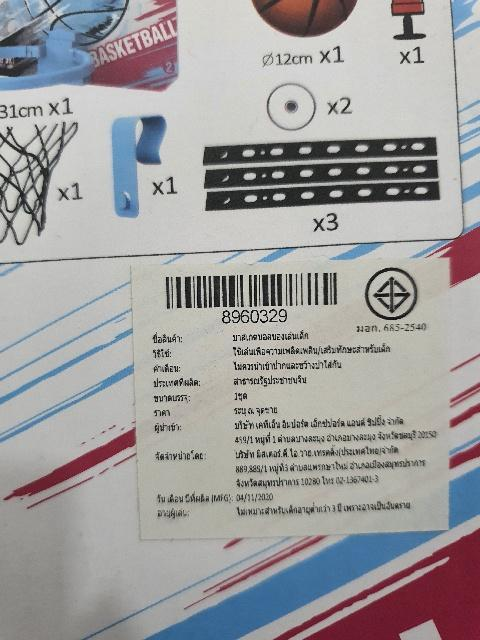Barcode: (157, 267, 346, 330)
